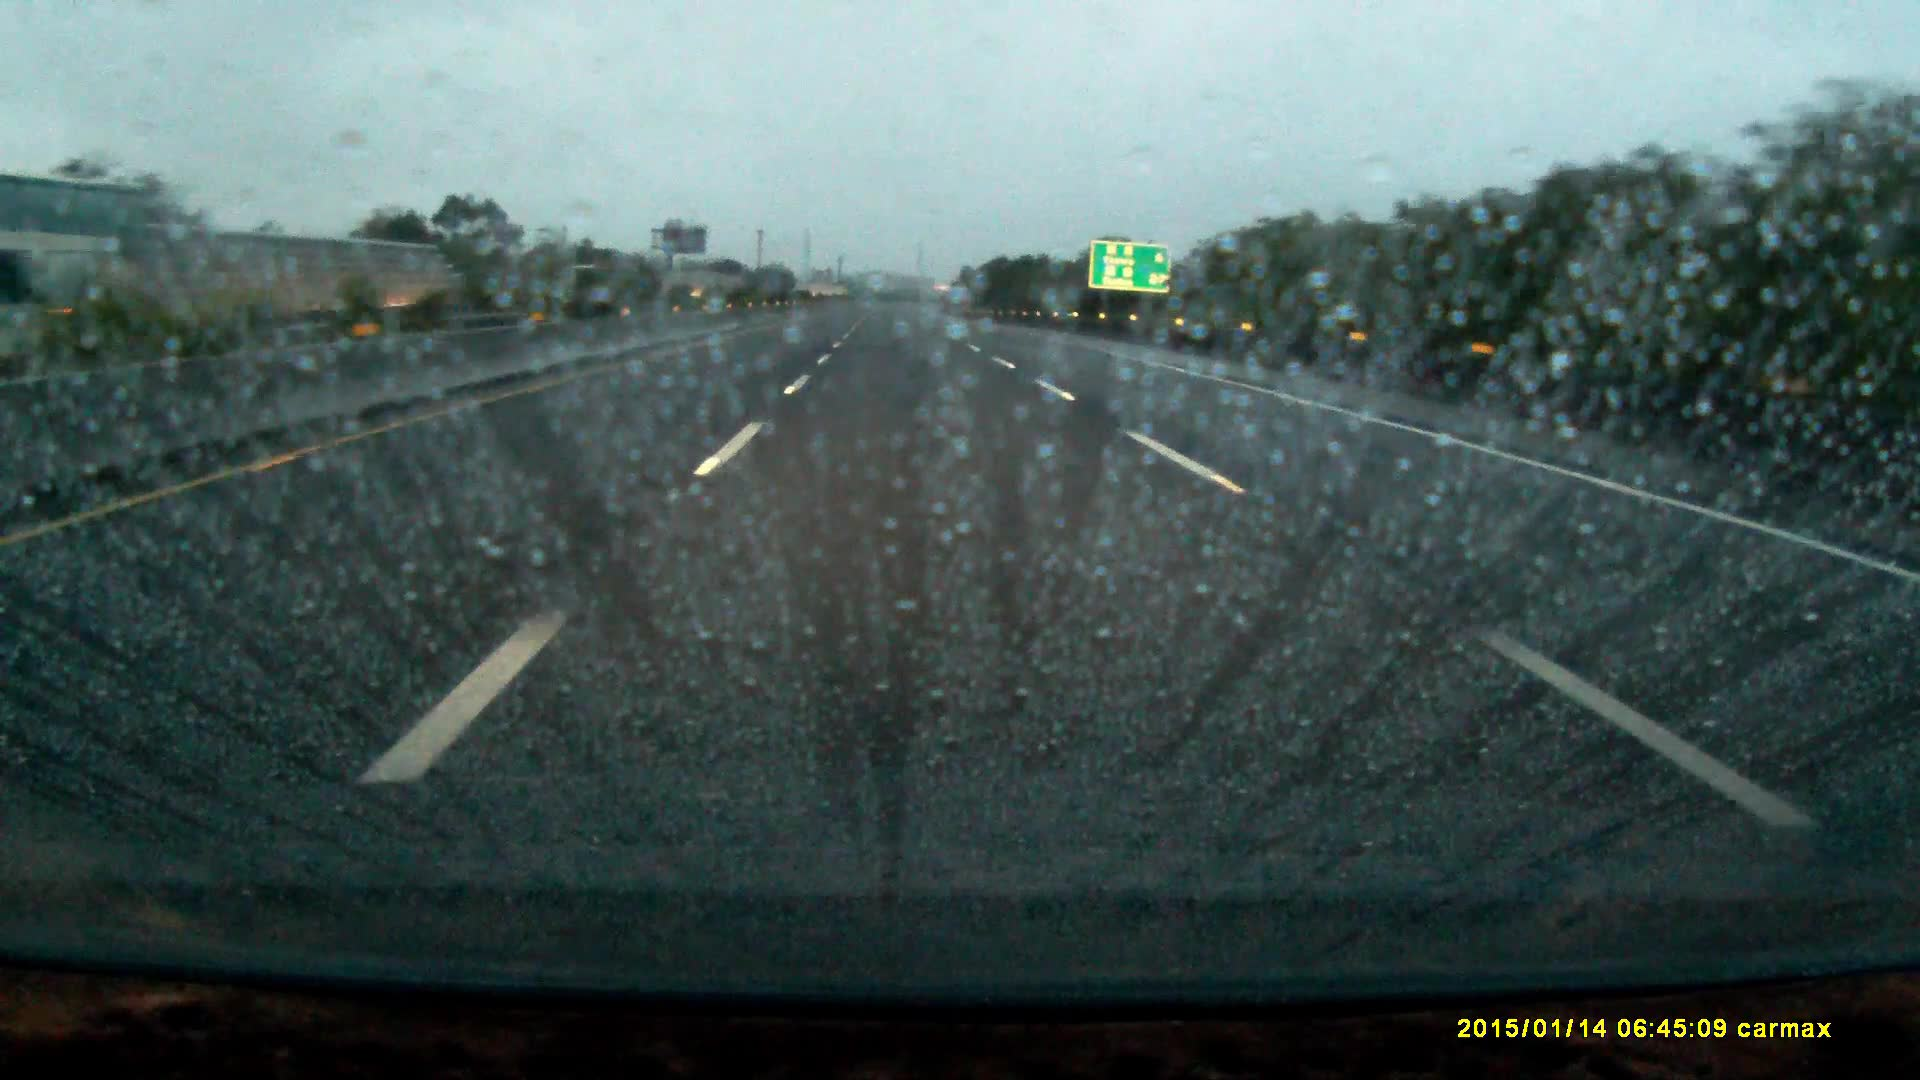vehicle: (1, 169, 152, 356), (560, 262, 640, 309)
